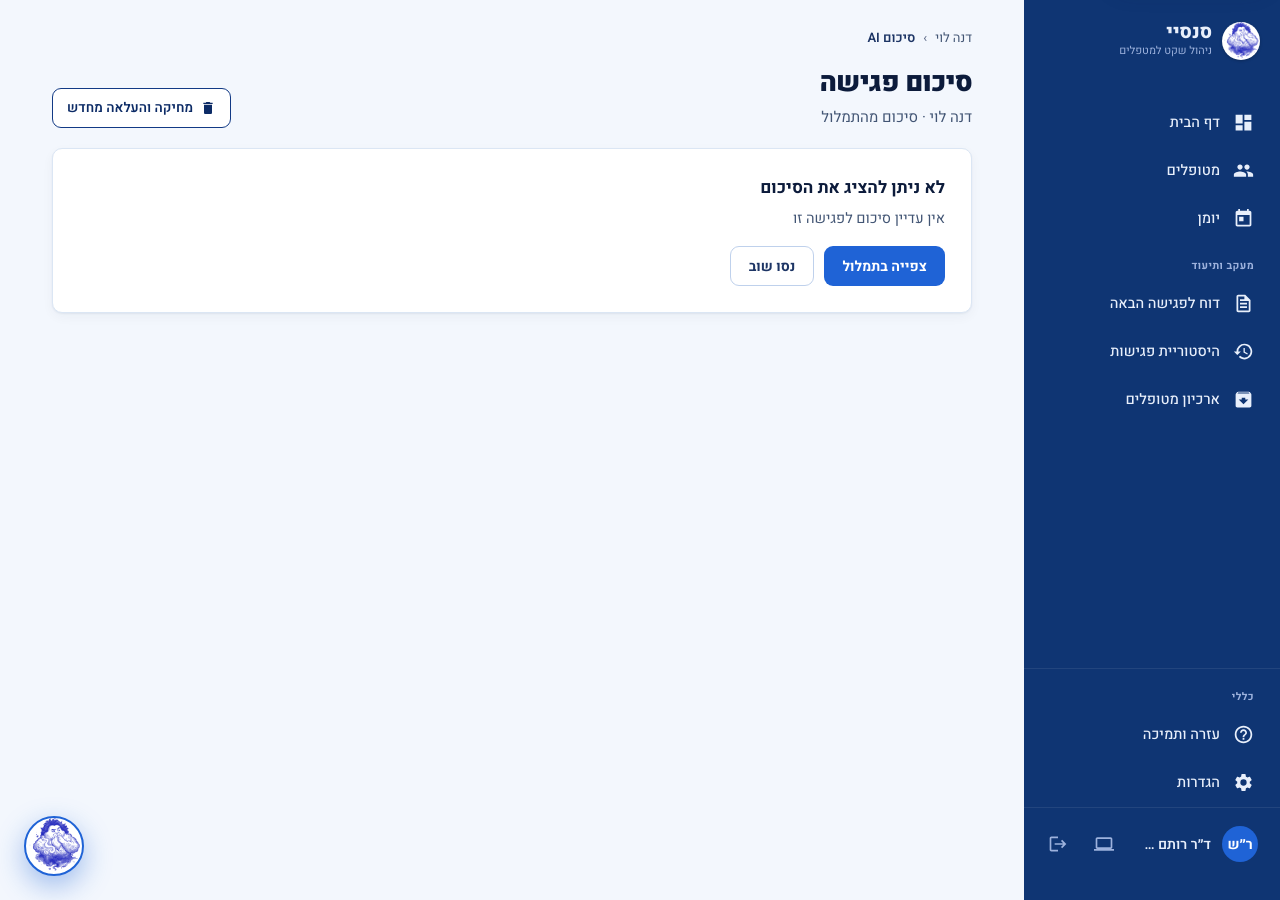
summary page — missing/failed summary recovery › shows transcript + upload actions on error (not a dead-end re-poll)
The width and height of the screenshot is (1280, 900).
Click the button "נסו שוב". click: coordinates (772, 266)
box: [730,246,814,286]
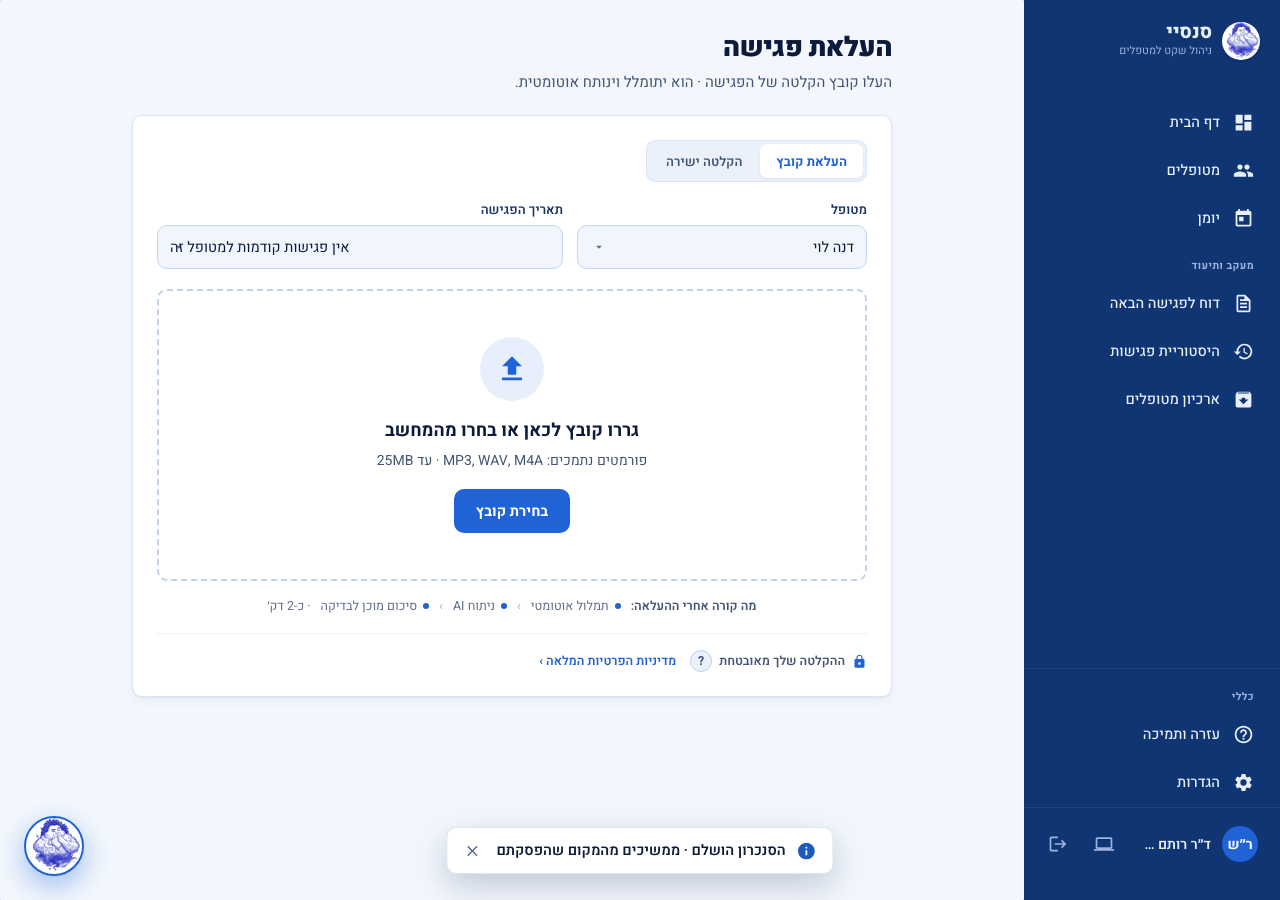
Check: the text "העלאת פגישה" is shown, box [723,28,892,67]
